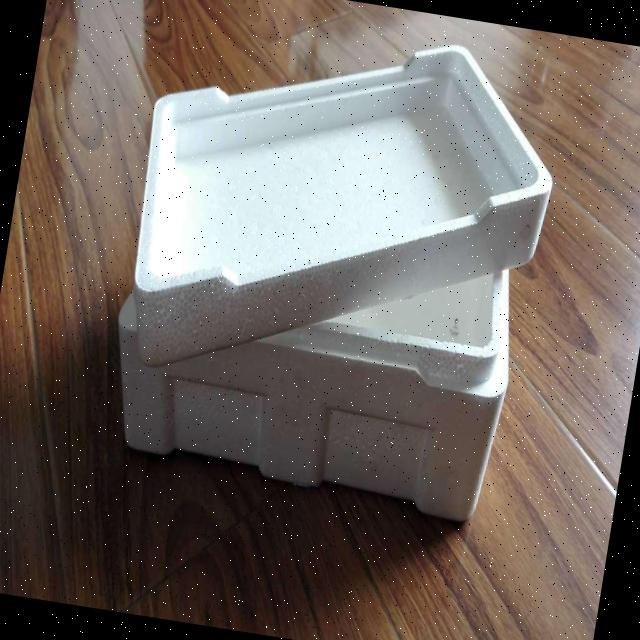styrofoam: (93, 0, 572, 529)
